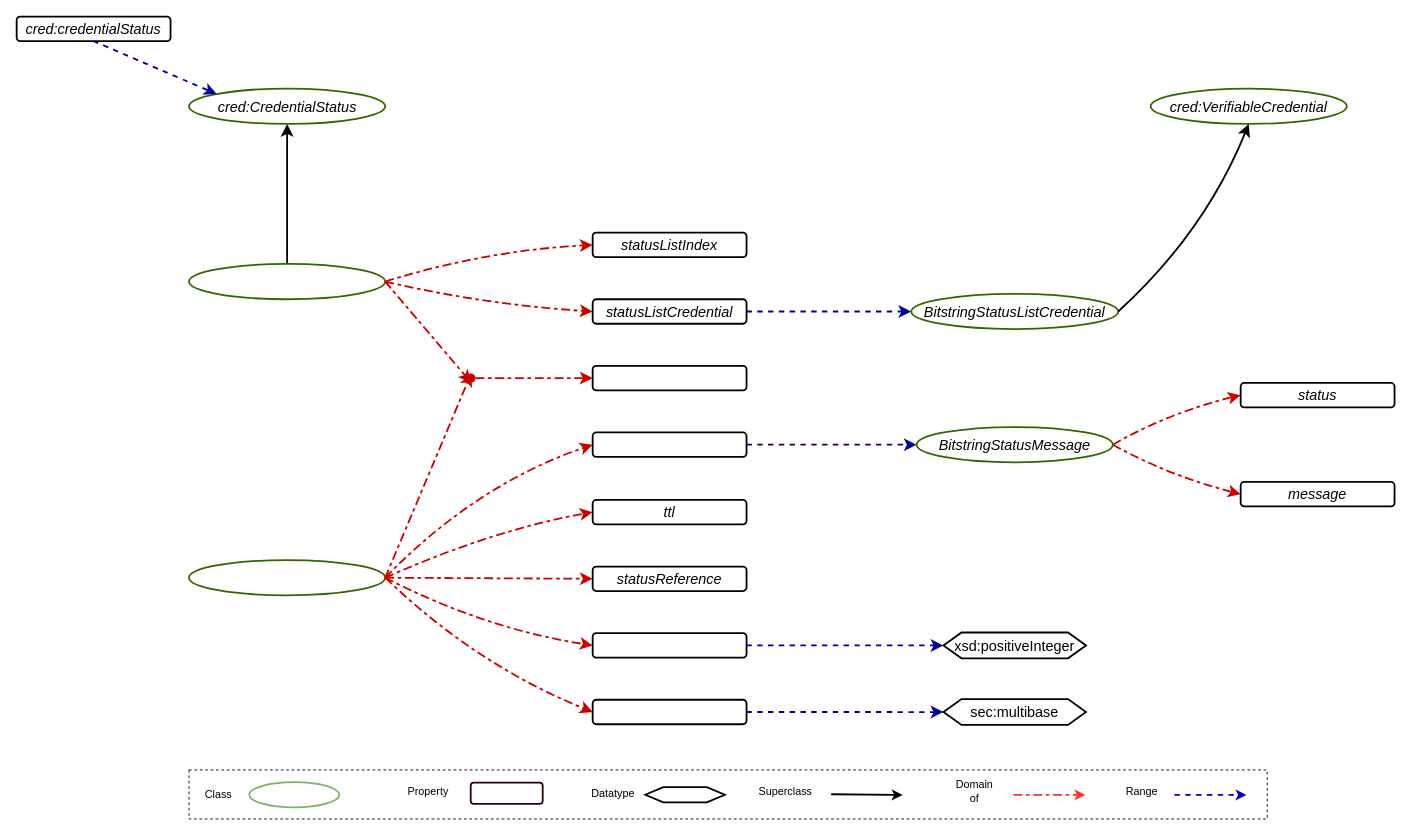
The diagram is 1410 pixels wide and 834 high, and some of its shapes have lost their labels. Here are the shapes that lost their labels. From the top down, the centre of each, then its label:
At point 287,281: "BitstringStatusListEntry".
At point 669,377: "statusPurpose".
At point 669,444: "statusMessage".
At point 287,577: "BitstringStatusList".
At point 669,645: "statusSize".
At point 669,711: "encodedList".
